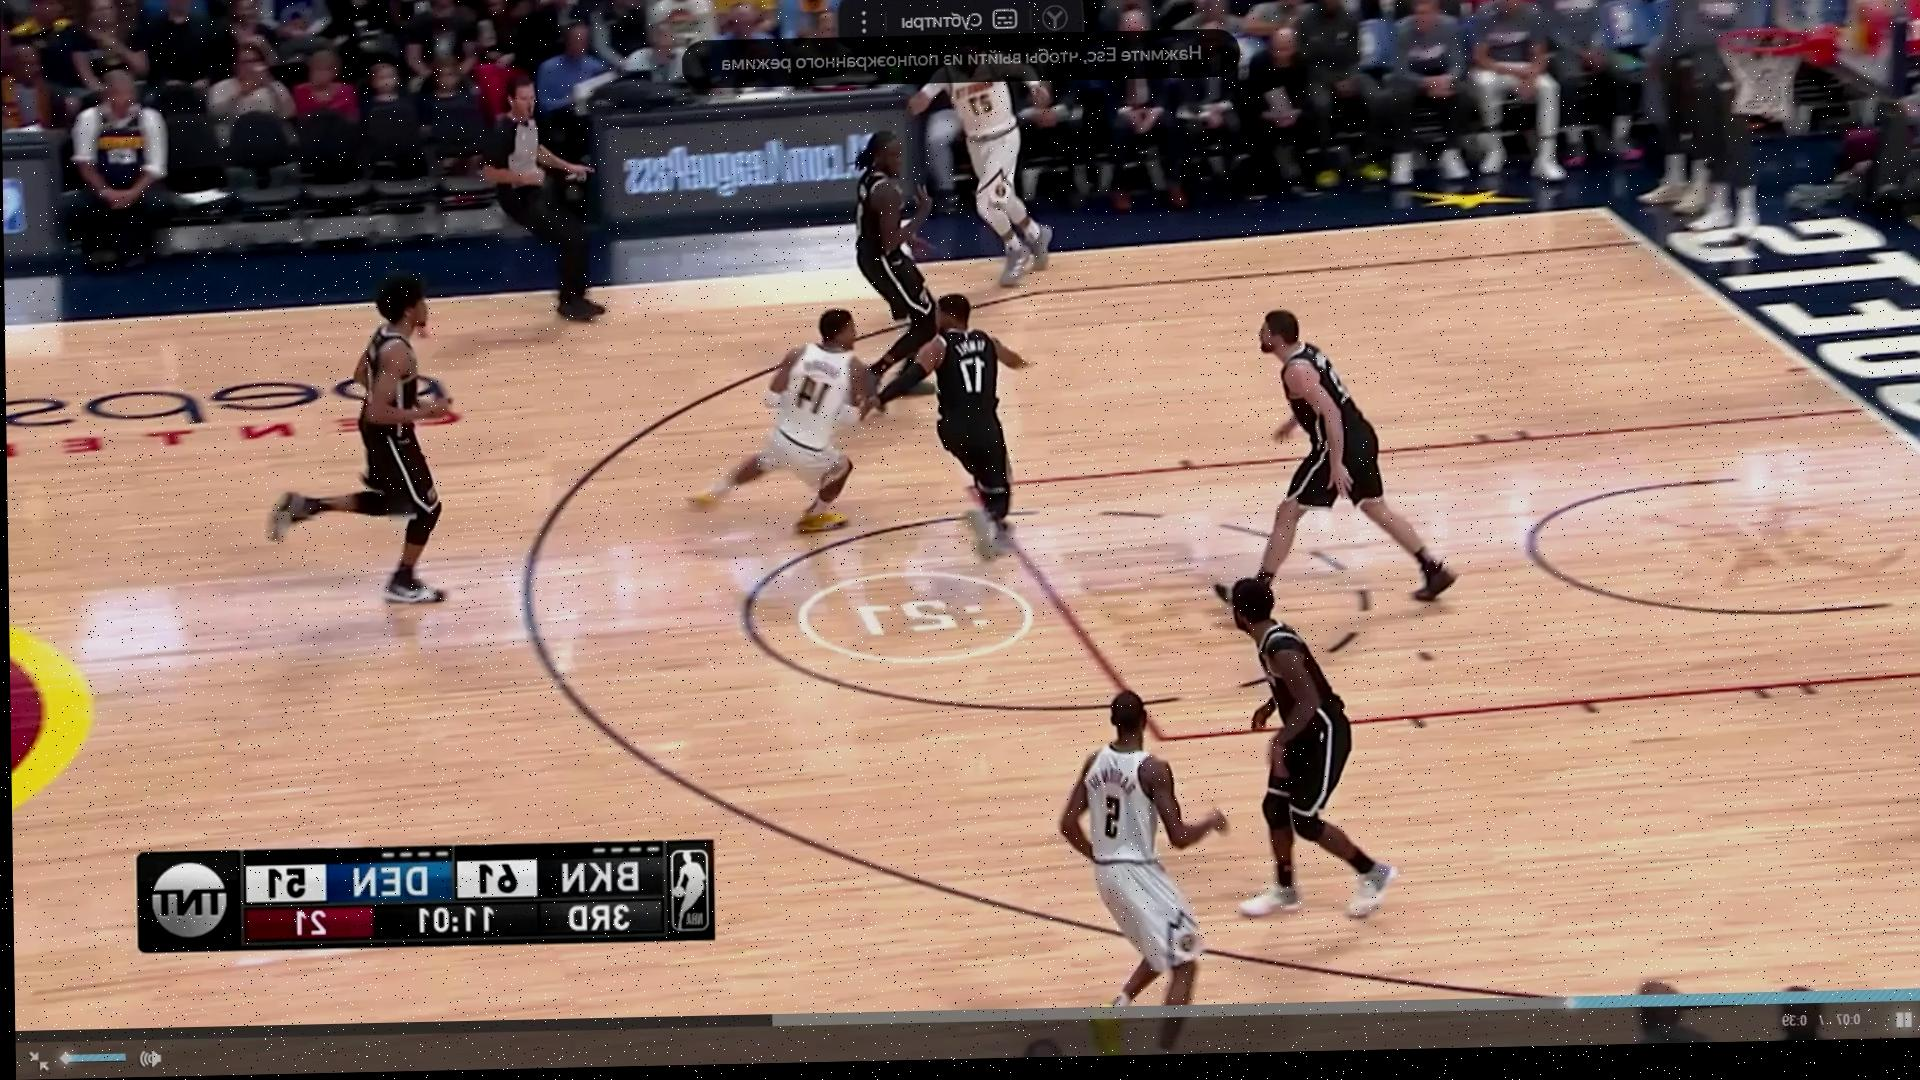no_foul: (666, 272, 1054, 592)
